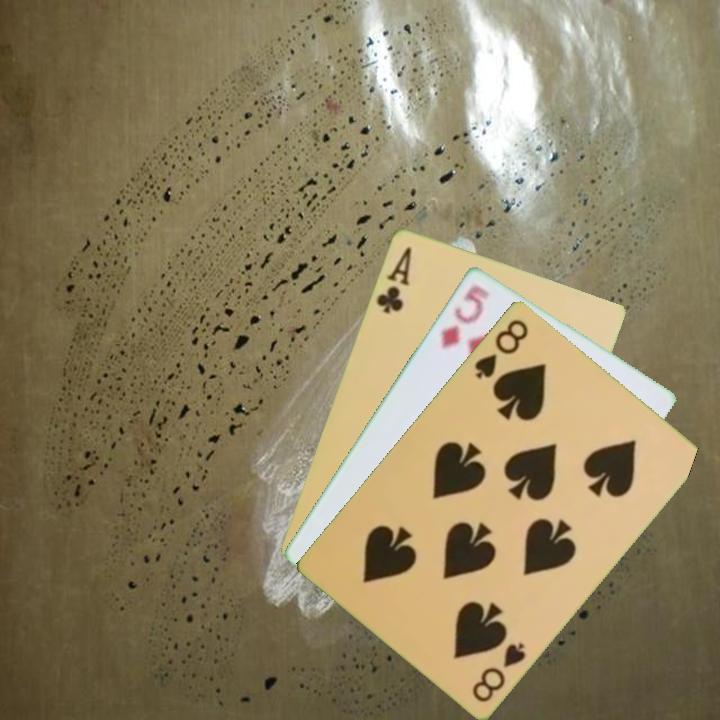5d: (437, 280, 492, 351)
8s: (468, 638, 529, 705), (471, 315, 532, 381)
Ac: (372, 242, 414, 316)
